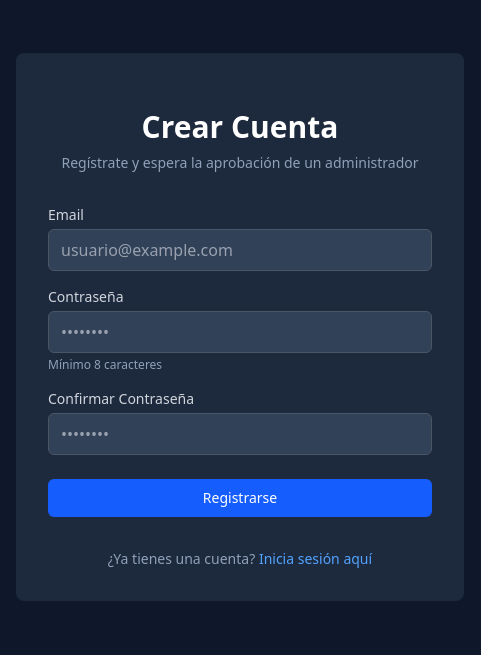
Scenario: SigninPage › debe mostrar error cuando las contraseñas no coinciden
In the field labelled "Email": (240, 250) [48,229,432,271], type "test@example.com"
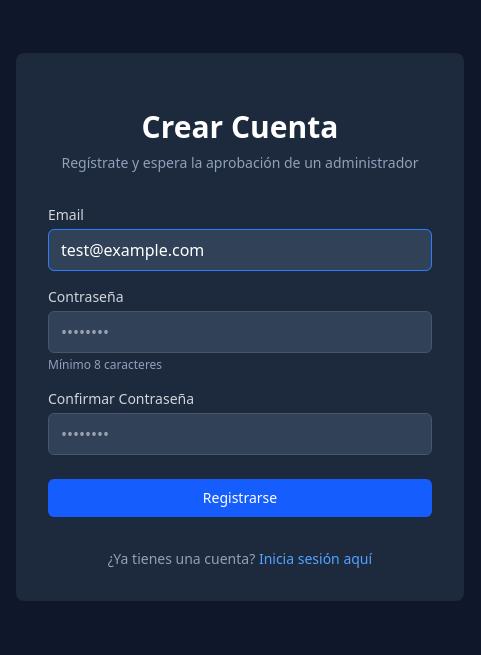
In the password field labelled "Contraseña": (240, 332) [48,311,432,353], type "password123"
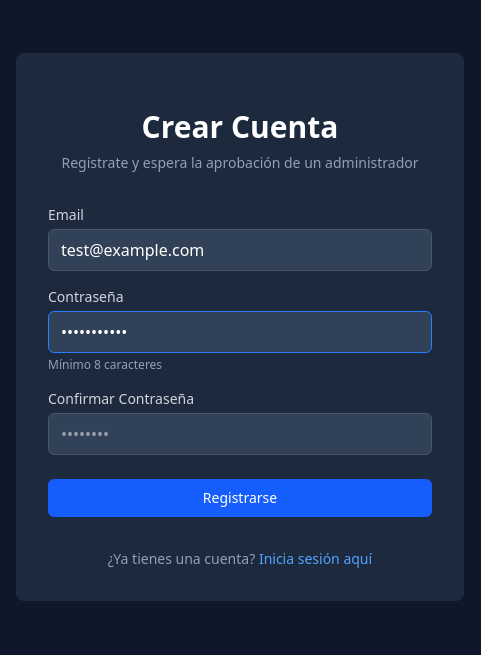
In the password field labelled "Confirmar Contraseña": (240, 434) [48,413,432,455], type "different123"
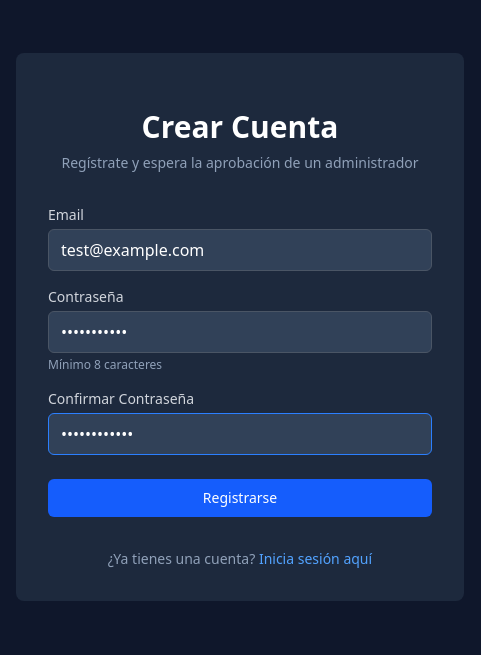
Click the button "Registrarse": (240, 498) [48,479,432,517]
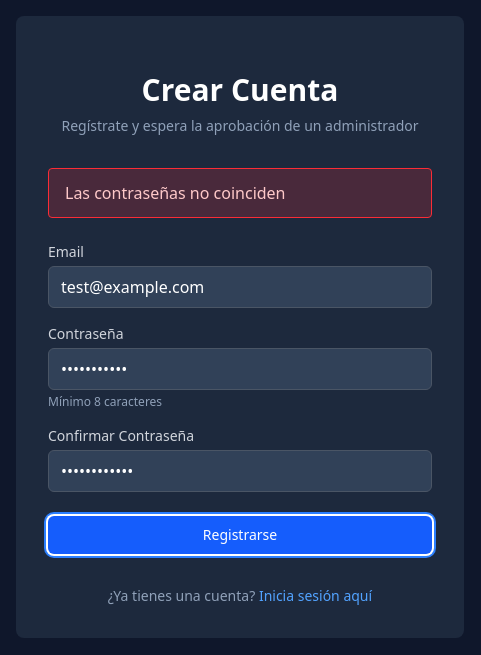
Expected: the text "Las contraseñas no coinciden" is shown, [48,168,432,218]
